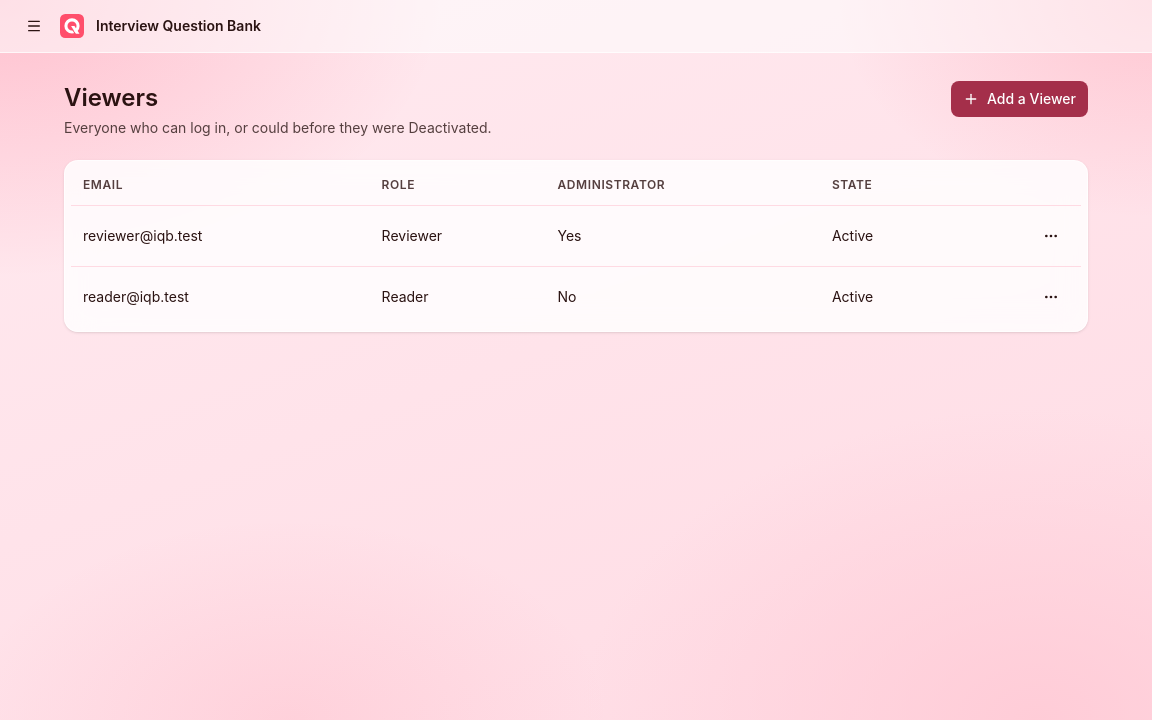
Test: acting on one Viewer from the administration console › asks before it Deactivates, and sends nothing on Cancel
Step 1. Click the button named "Actions for reader@iqb.test" → (1051, 297), box [1033,279,1069,315]
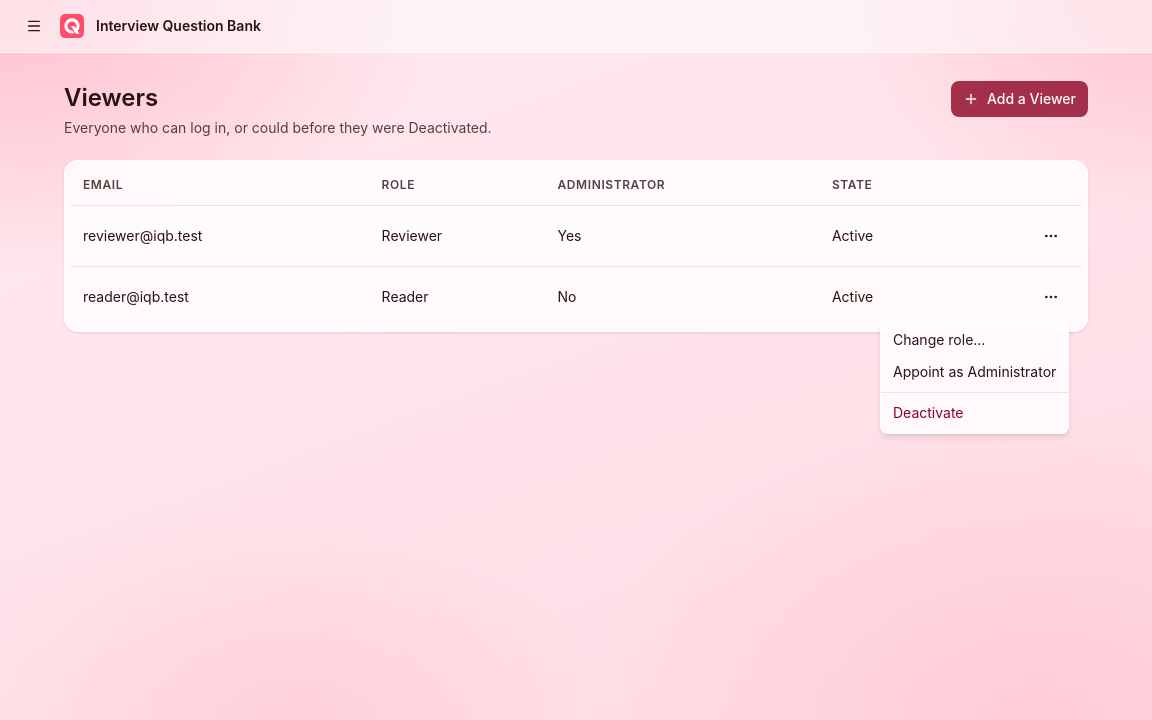
Step 2. Click the menu item "Deactivate" → (928, 412), box [893,404,964,421]
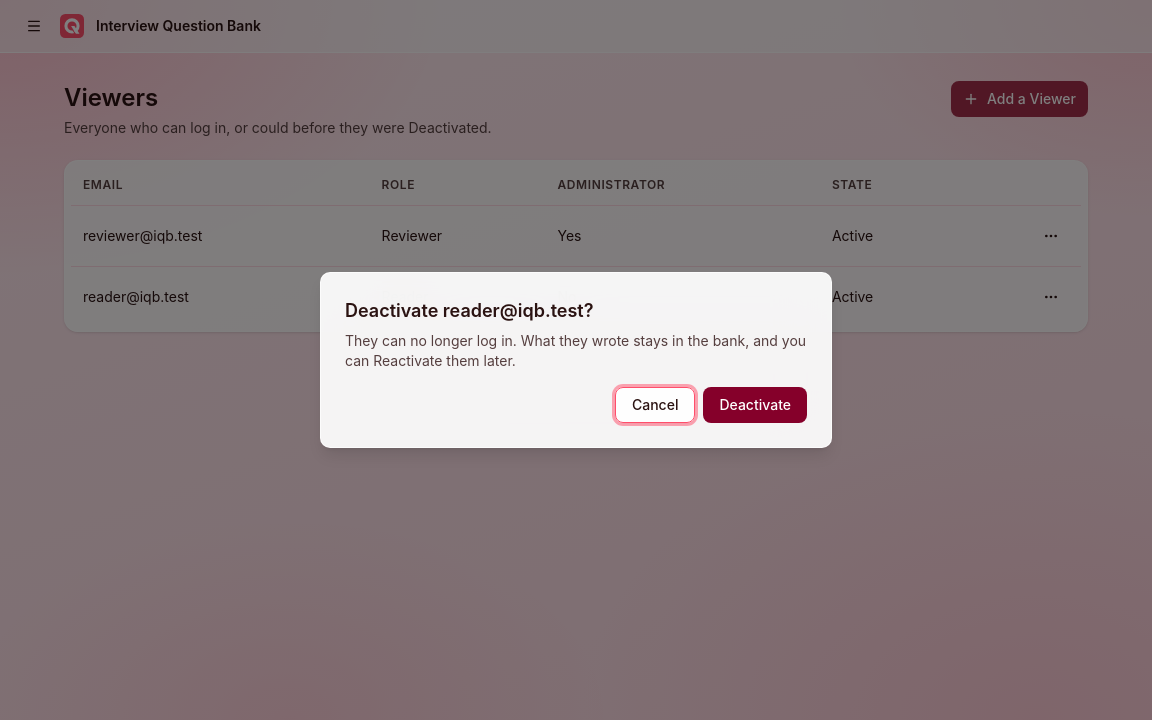
Expected: the heading "Deactivate reader@iqb.test?" is shown, [345,297,594,325]
Step 3. Click the button "Cancel" → (655, 405), box [615,387,696,423]
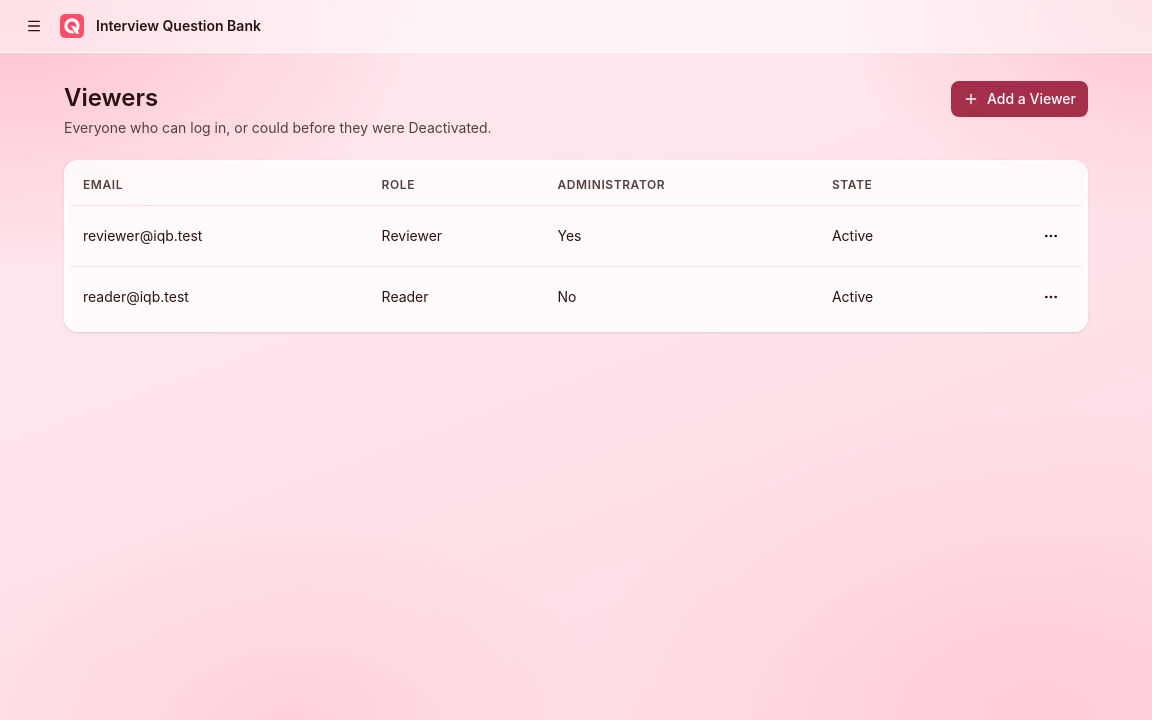
Expected: the cell "Active" in the row of "reader@iqb.test" is shown, [820,266,956,327]
Expected: the dialog is gone
